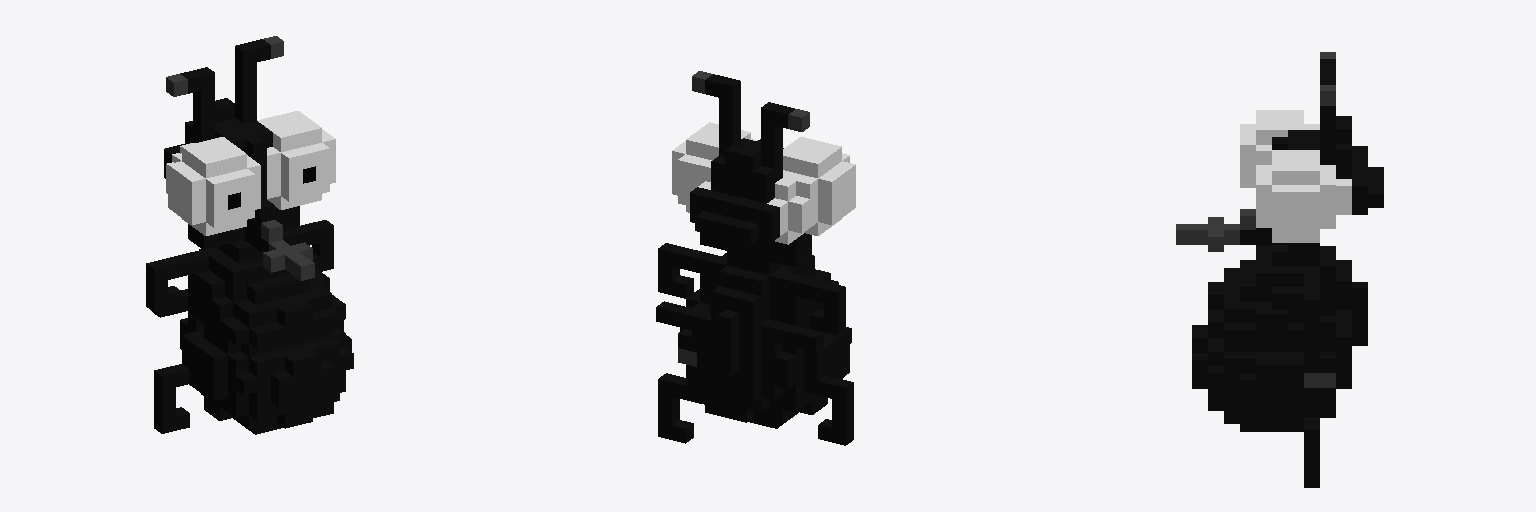
3 views of the same model, side by side, from view 1: azimuth 30°, elevation 25°; view 2: azimuth 150°, elevation 25°; view 3: azimuth 270°, elevation 25° (orthographic).
Parts seen in each view (by area): view 1: object 1; view 2: object 1; view 3: object 1.
Boxes of the visible parts, <box> form: object 1: <box>146,36,353,434</box>; object 1: <box>656,71,855,445</box>; object 1: <box>1176,52,1383,487</box>.
Bounding box in the file's own units: 1.3 × 2.6 × 1.3.
Materials: 1 (1 with a texture image).